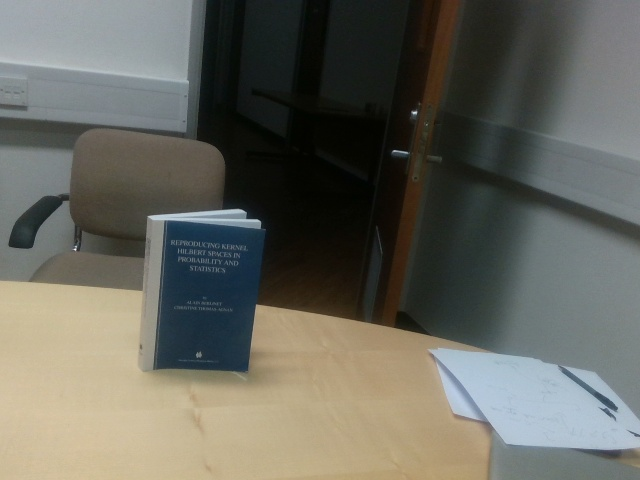book: (138, 208, 266, 374)
